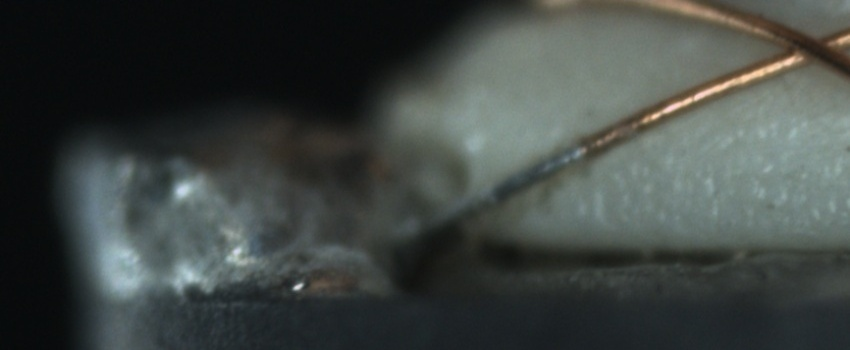CL: (759, 16, 847, 76)
TS: (407, 142, 587, 240)
